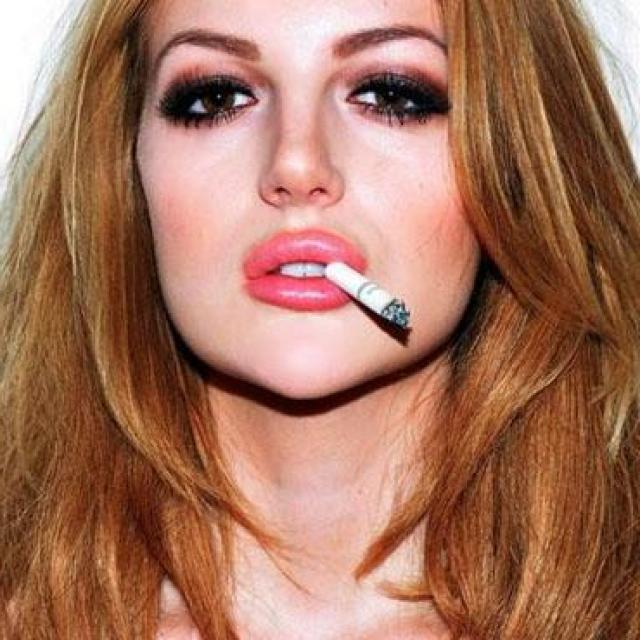smoking: (318, 254, 421, 331)
